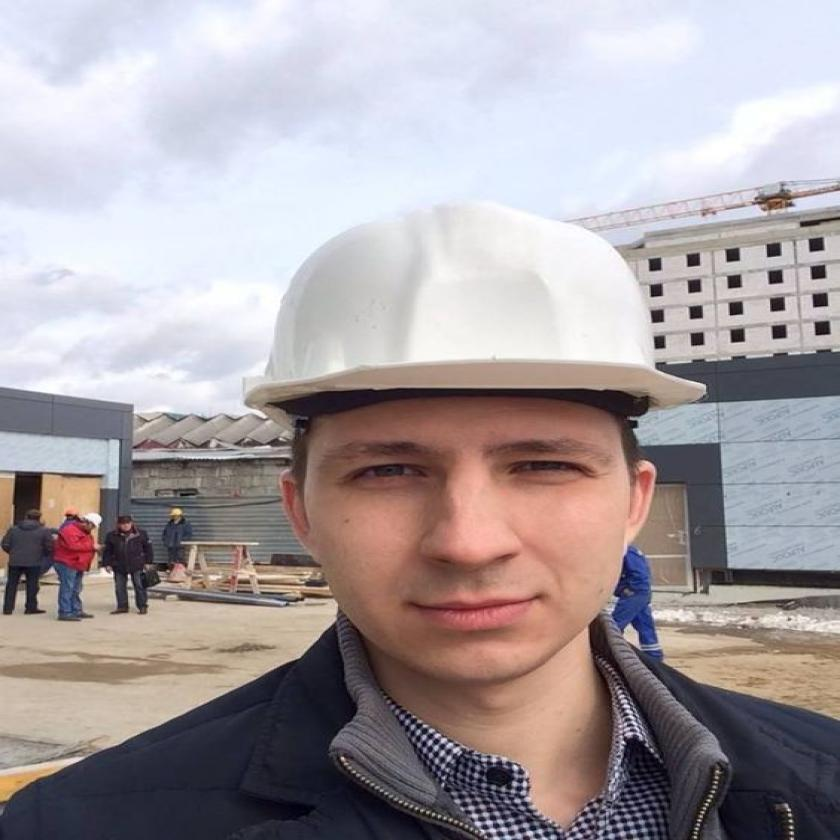Con_casco: (249, 161, 690, 684), (78, 508, 104, 536)
Sin_casco: (114, 506, 138, 540)
